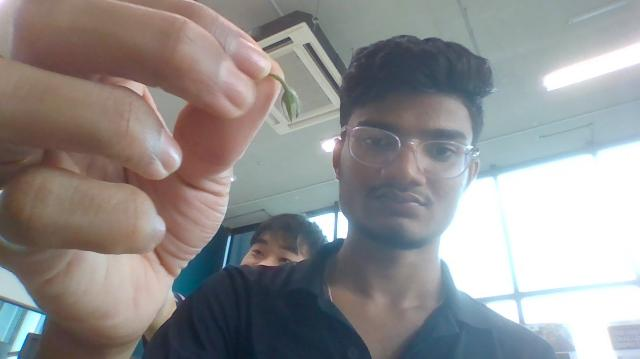Fruit Bud: (281, 86, 300, 123)
